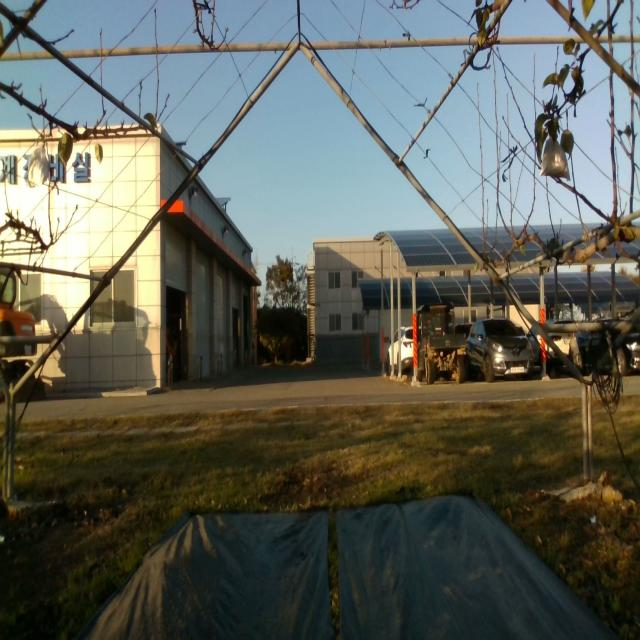pearbags: (539, 134, 572, 184), (27, 142, 50, 188)
